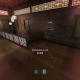Character: (44, 28, 52, 44)
Head: (48, 28, 51, 31)
